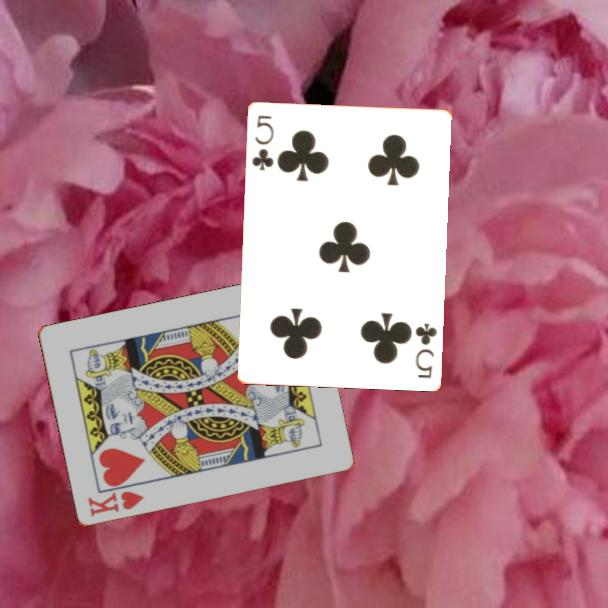c05: (248, 111, 277, 173), (412, 319, 439, 381)
h13: (84, 488, 147, 520)
